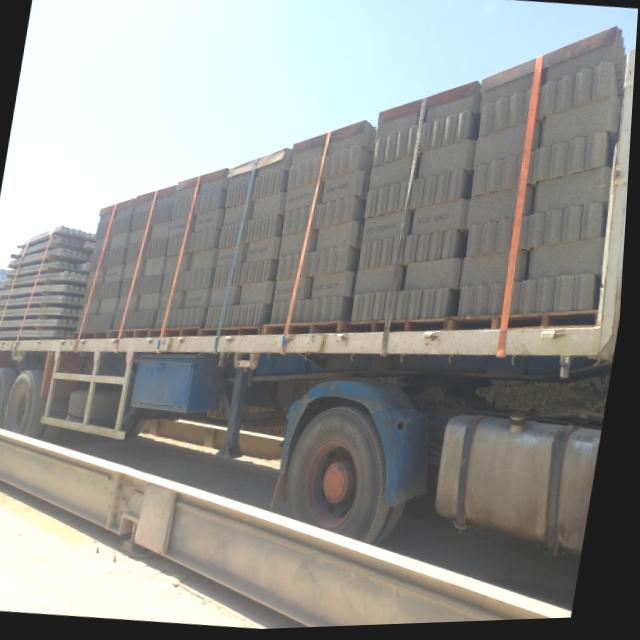bricks: (78, 26, 625, 337)
